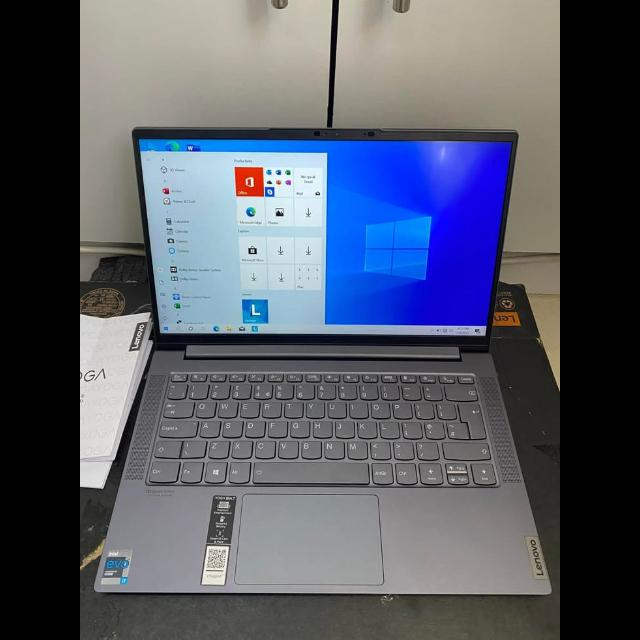laptop: (97, 128, 536, 594)
